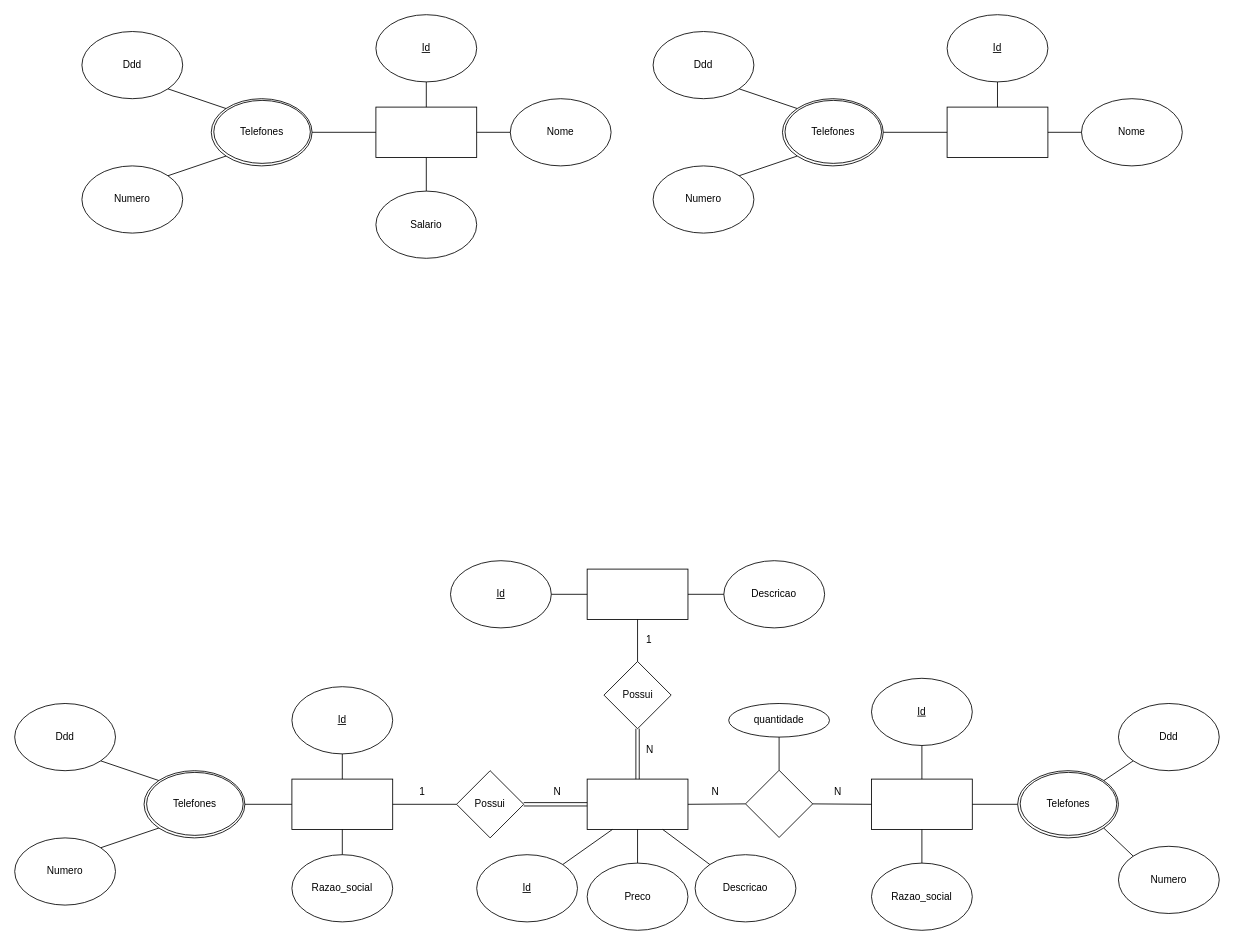
This 1234x945 diagram has some shape labels left out. The shapes that lost their labels are listed below. From the top down, each one's centre as x and y in pixels, then its label:
point 426,132: FUNCIONARIO
point 997,132: CLIENTE
point 637,594: CATEGORIA
point 342,804: FORNECEDOR
point 637,804: PRODUTO
point 779,803: Estoque
point 921,804: FILIAL
